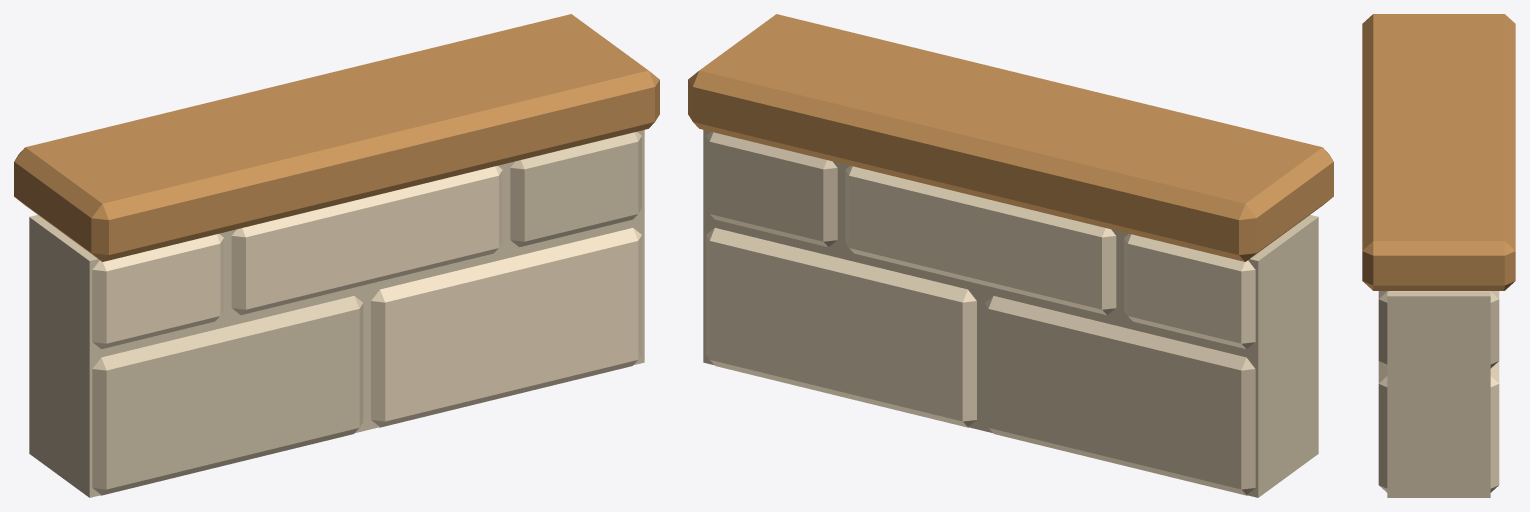
Rendered from mod_wall_lip_1m.glb.
3 views of the same model, side by side, from view 1: azimuth 30°, elevation 25°; view 2: azimuth 150°, elevation 25°; view 3: azimuth 270°, elevation 25° (orthographic). The views are drawn at different scales.
Visible parts, largest first — view 1: mod_wall_lip_1m; view 2: mod_wall_lip_1m; view 3: mod_wall_lip_1m.
Boxes of the visible parts, x1,y1,x2,y2 form: mod_wall_lip_1m: [14, 14, 659, 497]; mod_wall_lip_1m: [688, 14, 1333, 497]; mod_wall_lip_1m: [1362, 14, 1515, 497].
Size of the model in its own units: 1.02 by 0.515 by 0.28.
